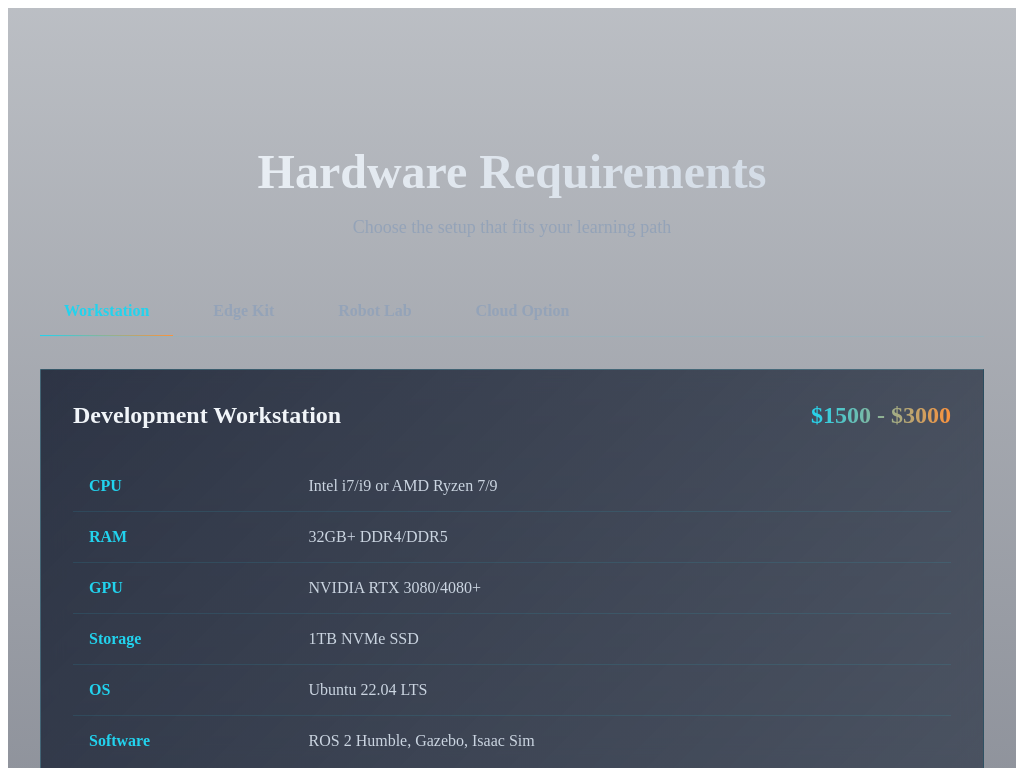
Test: HardwareTabs Component › should switch to Robot Lab tab when clicked
The width and height of the screenshot is (1024, 768).
Click the button "Robot Lab" at x=375, y=311, box [314, 286, 436, 336]
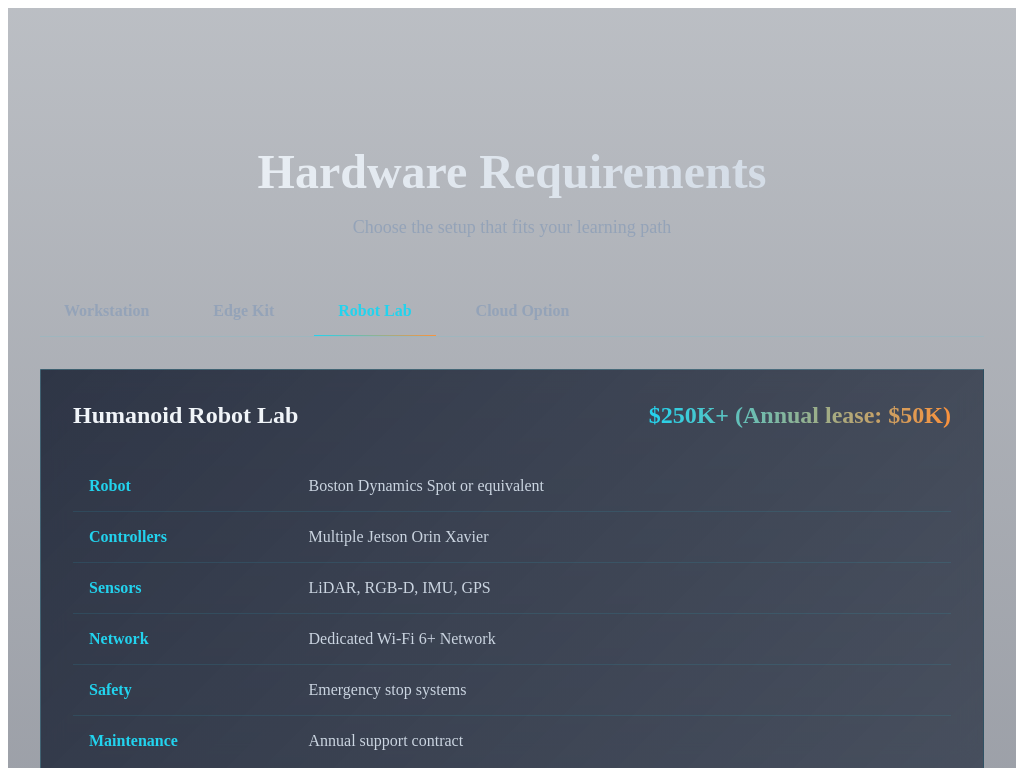
Expected: the heading "Humanoid Robot Lab" is shown, [73, 402, 298, 429]
